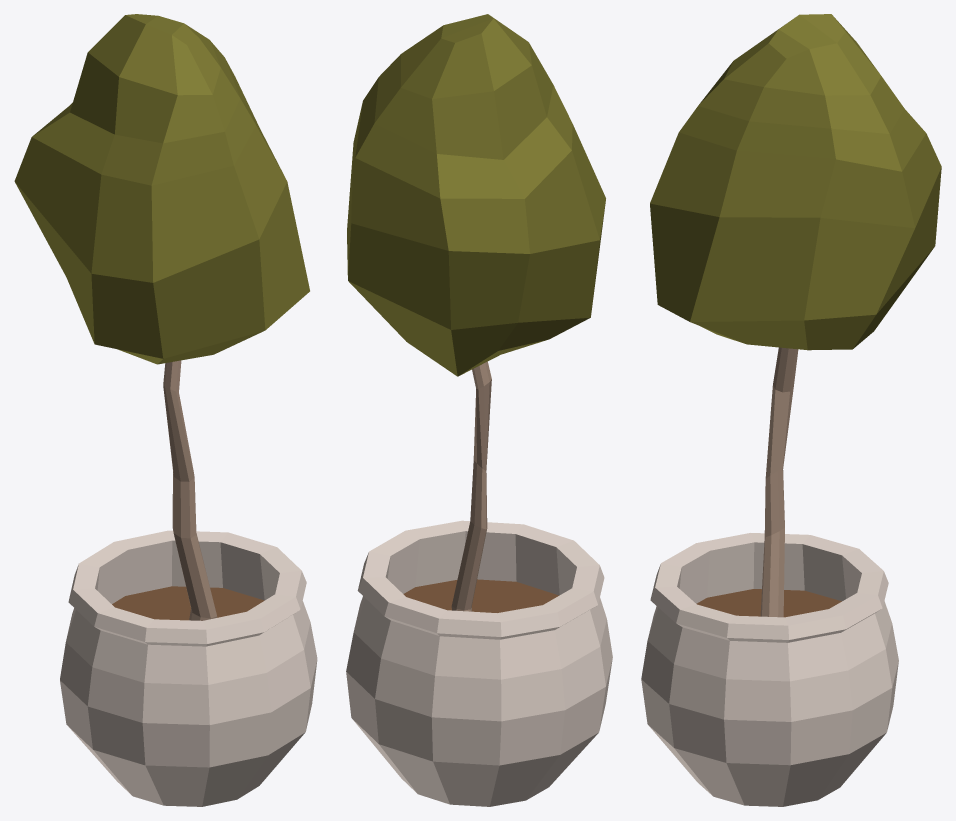
The model's file is Tree_5.fbx.
3 renders of one model, left to right at view 1: azimuth 30°, elevation 25°; view 2: azimuth 150°, elevation 25°; view 3: azimuth 270°, elevation 25°, orthographic. The views are drawn at different scales.
Parts seen in each view (by area): view 1: Tree_5; view 2: Tree_5; view 3: Tree_5.
Boxes of the visible parts, x1,y1,x2,y2 form: Tree_5: [14, 14, 317, 806]; Tree_5: [346, 14, 612, 806]; Tree_5: [641, 14, 941, 806].
Bounding box in the file's own units: 63.43 × 73.97 × 203.
